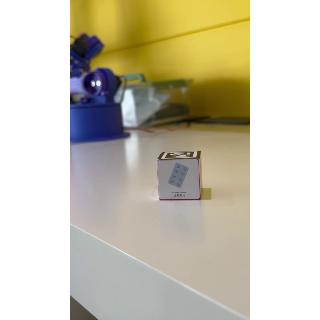Tablet: (158, 158, 204, 203)
